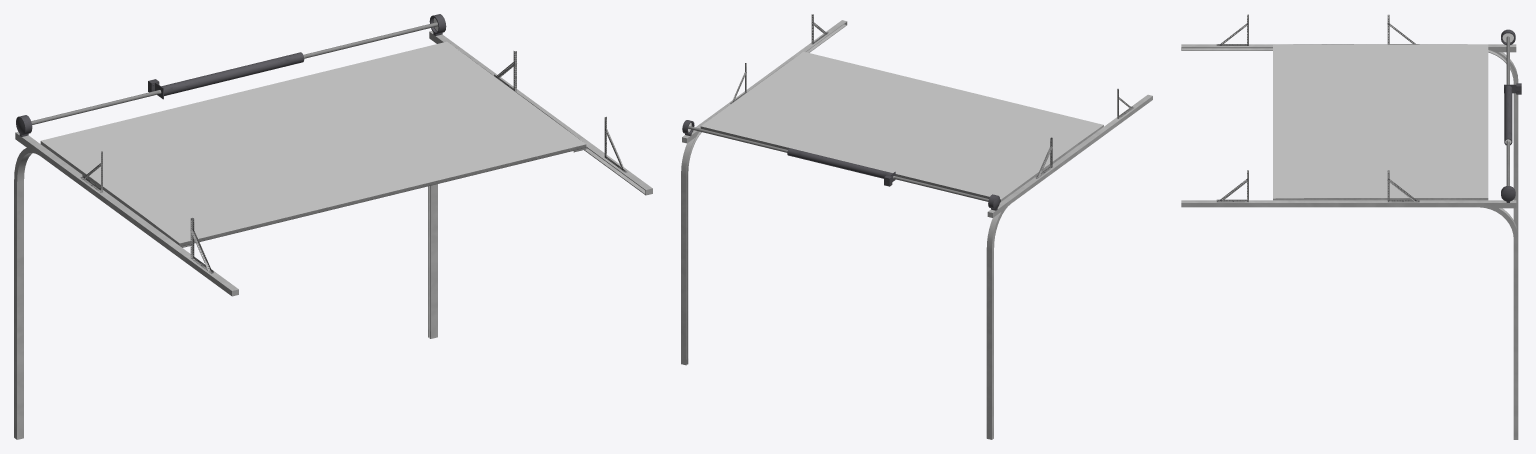
Rendered from garage door.fbx.
3 views of the same model, side by side, from view 1: azimuth 30°, elevation 25°; view 2: azimuth 150°, elevation 25°; view 3: azimuth 270°, elevation 25° (orthographic). The views are drawn at different scales.
Visible parts, largest first — view 1: Cube.003; view 2: Cube.003; view 3: Cube.003.
Part boxes in pixels (<box>): Cube.003: <box>14,14,652,439</box>; Cube.003: <box>681,14,1152,439</box>; Cube.003: <box>1181,14,1521,439</box>.
Size of the model in its own units: 476 by 372 by 427.
1 material, 1 textured.
